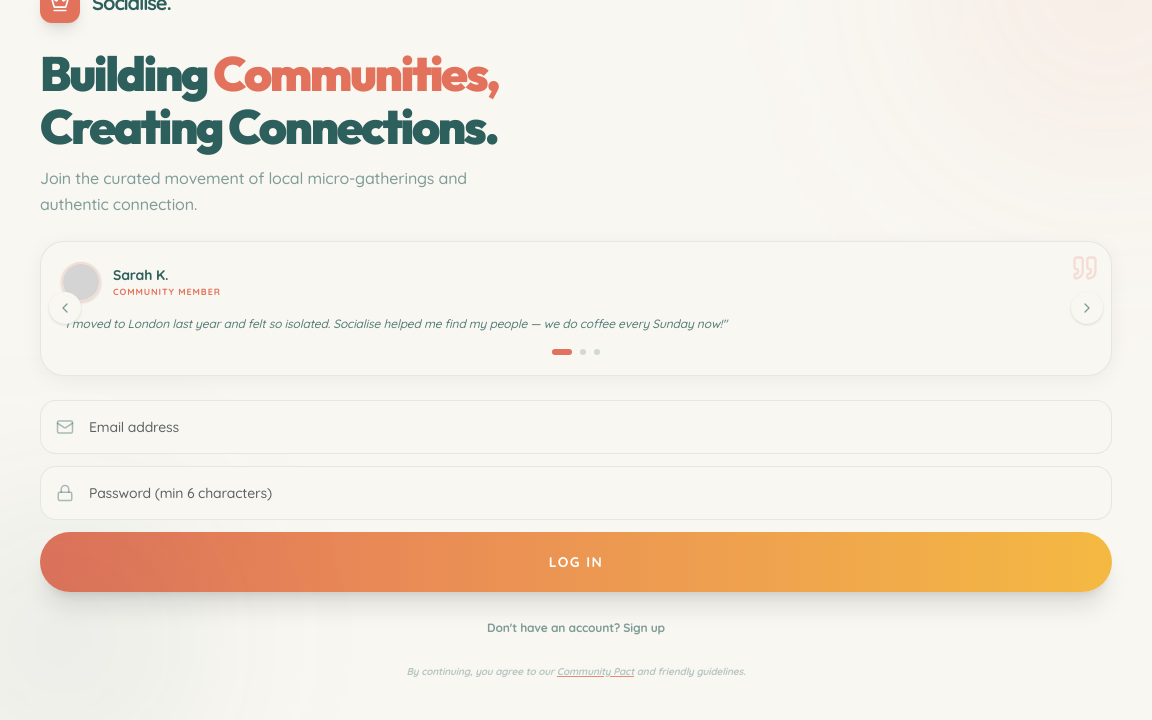
it: AuthScreen › Loading state › should disable submit button while loading
The width and height of the screenshot is (1152, 720).
(page scrolled)
Step 1. Type "test@example.com" into the field with placeholder "Email address" → (576,427), box [40,400,1112,454]
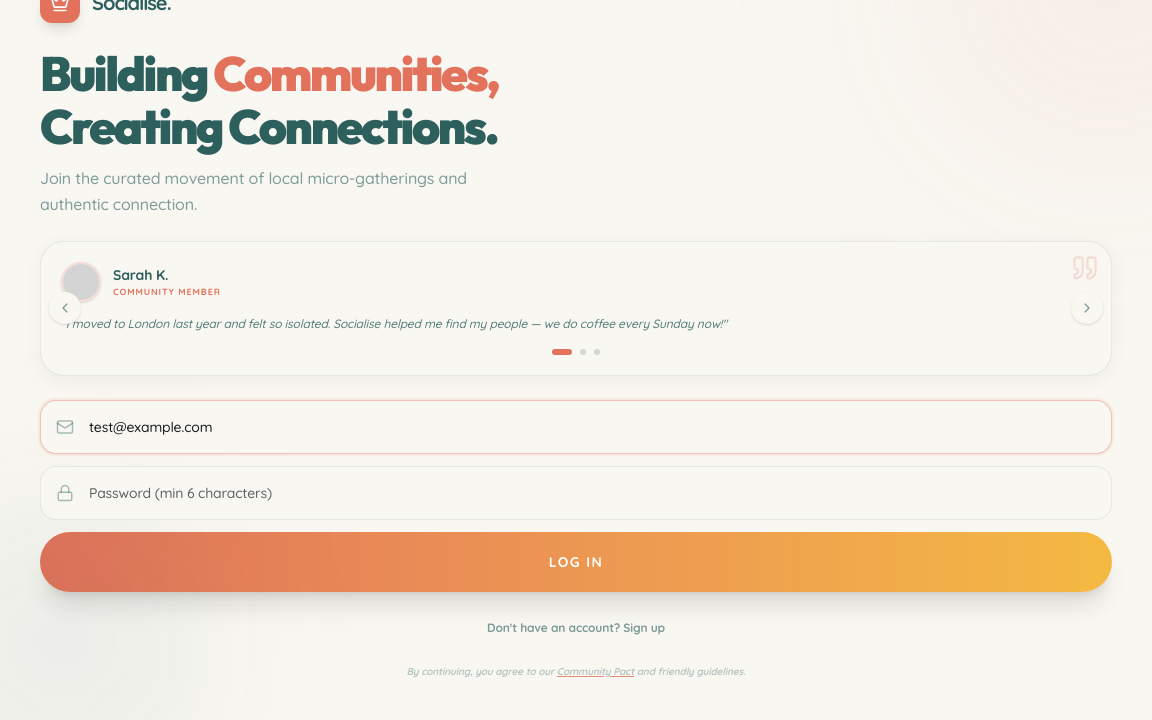
Step 2. Type "password123" into the password field with placeholder "Password (min 6 characters)" → (576,493), box [40,466,1112,520]
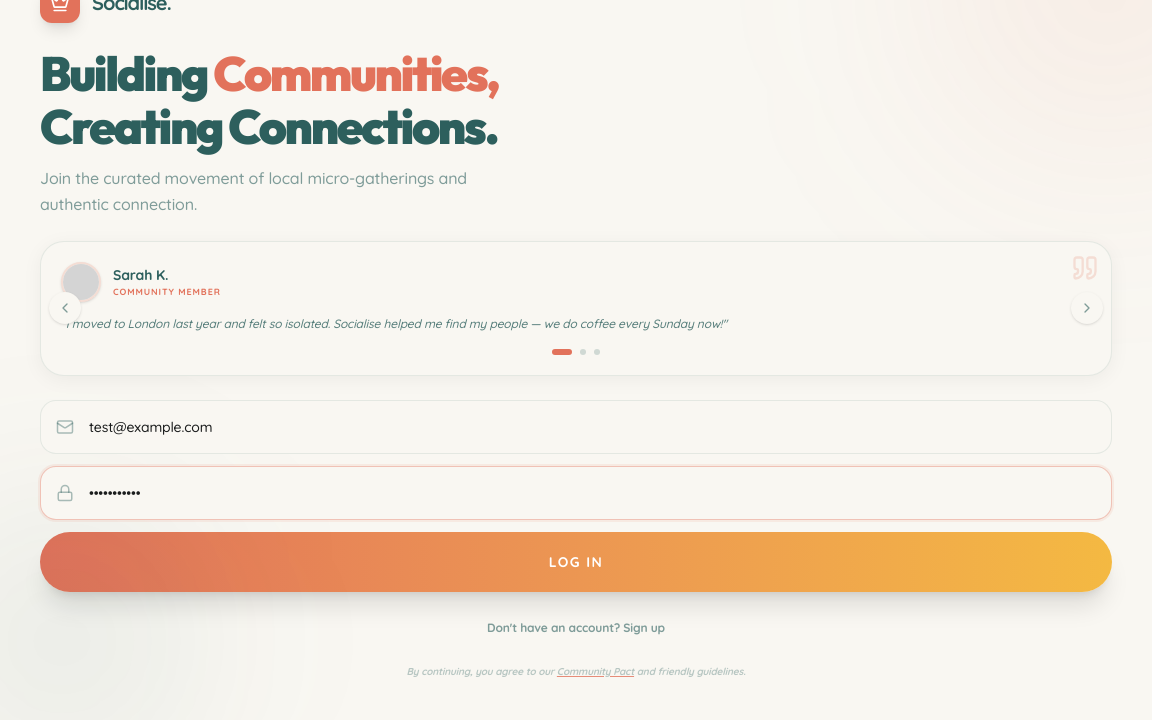
Step 3. Click the button "Log In" → (576,562), box [40,532,1112,592]
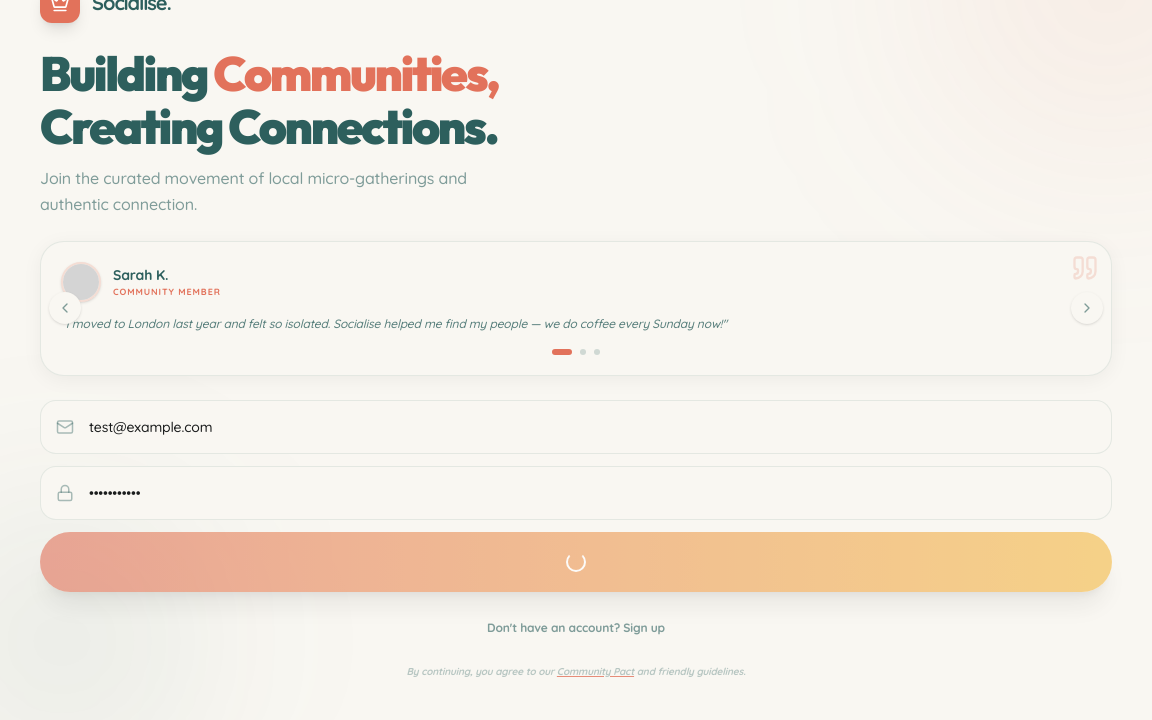
Expected: the button "Log In" is disabled, [40,532,1112,592]
